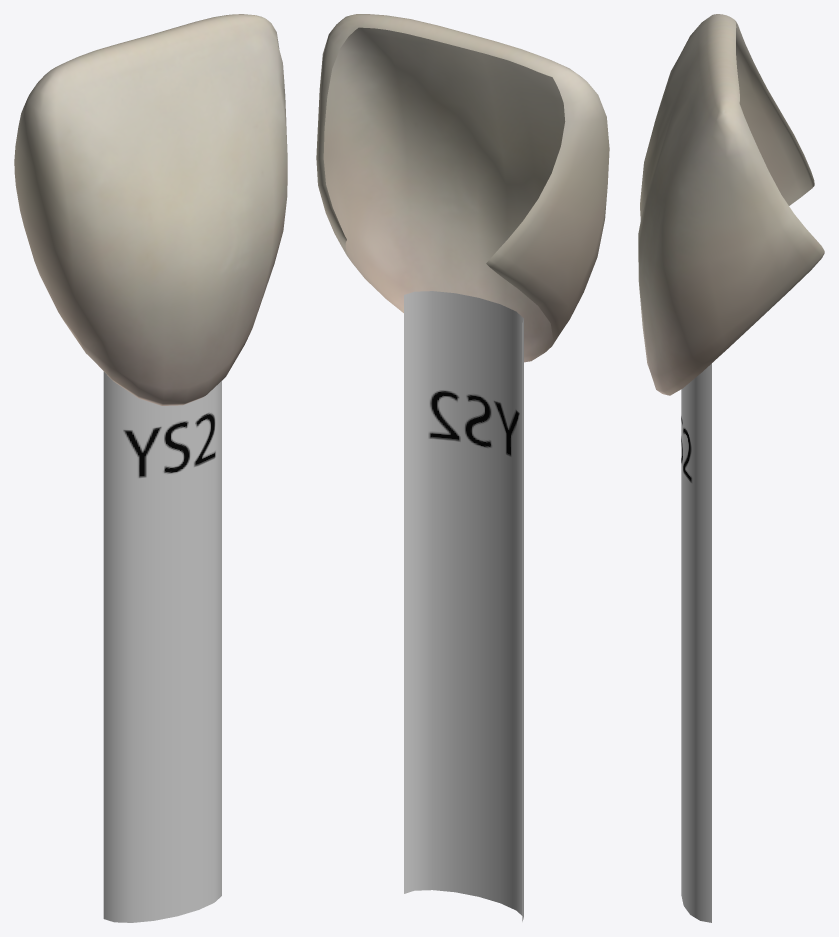
3 renders of one model, left to right at view 1: azimuth 30°, elevation 25°; view 2: azimuth 150°, elevation 25°; view 3: azimuth 270°, elevation 25°, orthographic. The views are drawn at different scales.
Parts seen in each view (by area): view 1: Tab; view 2: Tab; view 3: Tab.
Part boxes in pixels (<box>): Tab: <box>14,14,287,922</box>; Tab: <box>316,14,609,921</box>; Tab: <box>638,14,824,922</box>.
Bounding box in the file's own units: 0.00859 × 0.0273 × 0.00547.
Materials: 1 (1 with a texture image).
